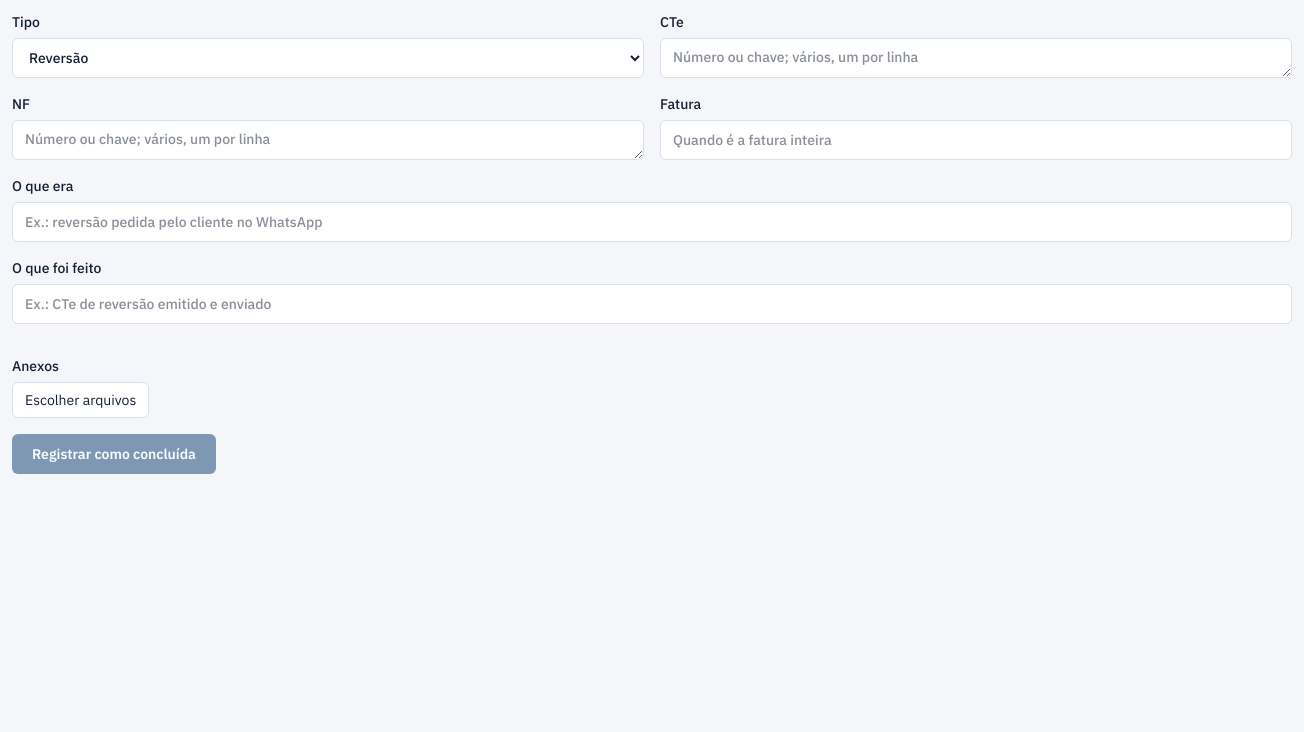
Scenario: FormularioDeRegistro › duplicidade: mostra e deixa registrar mesmo assim
In the text box labelled "CTe": (976, 58) [660,38,1292,78], type "50001"
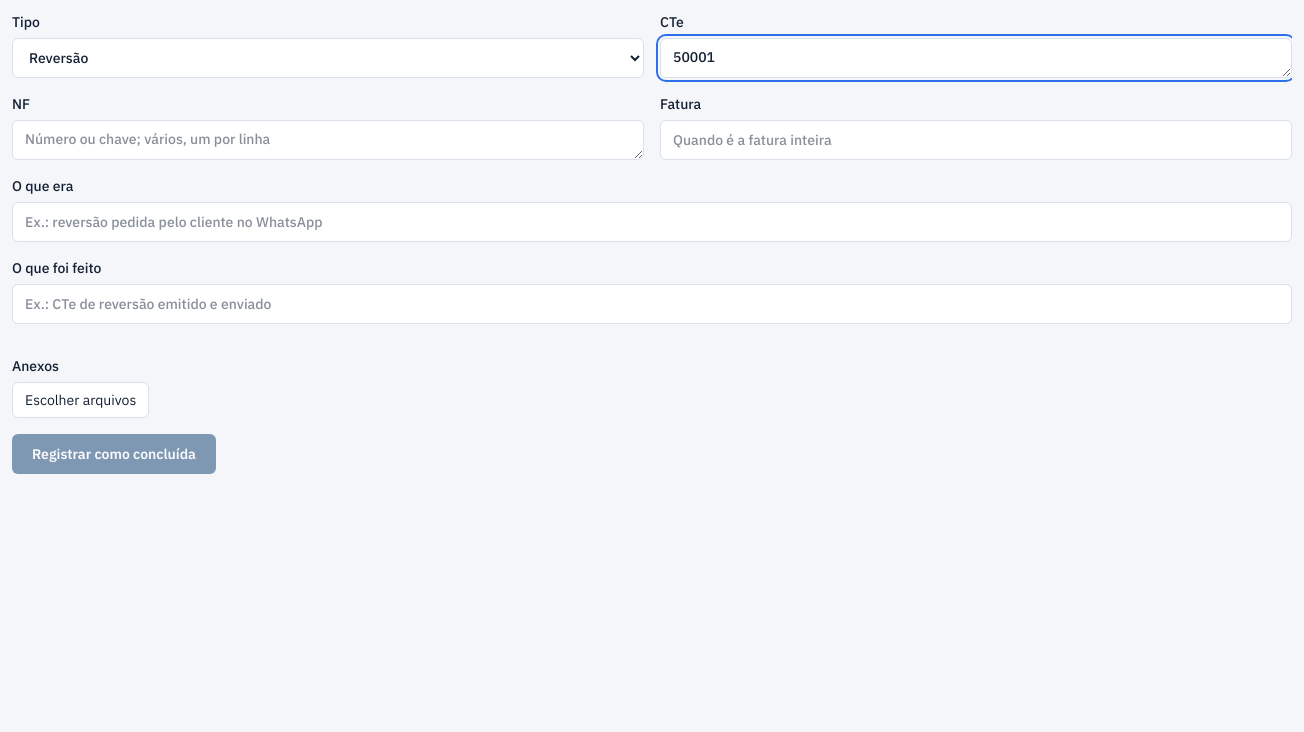
In the field labelled "O que era": (652, 222) [12,202,1292,242], type "Reversão"
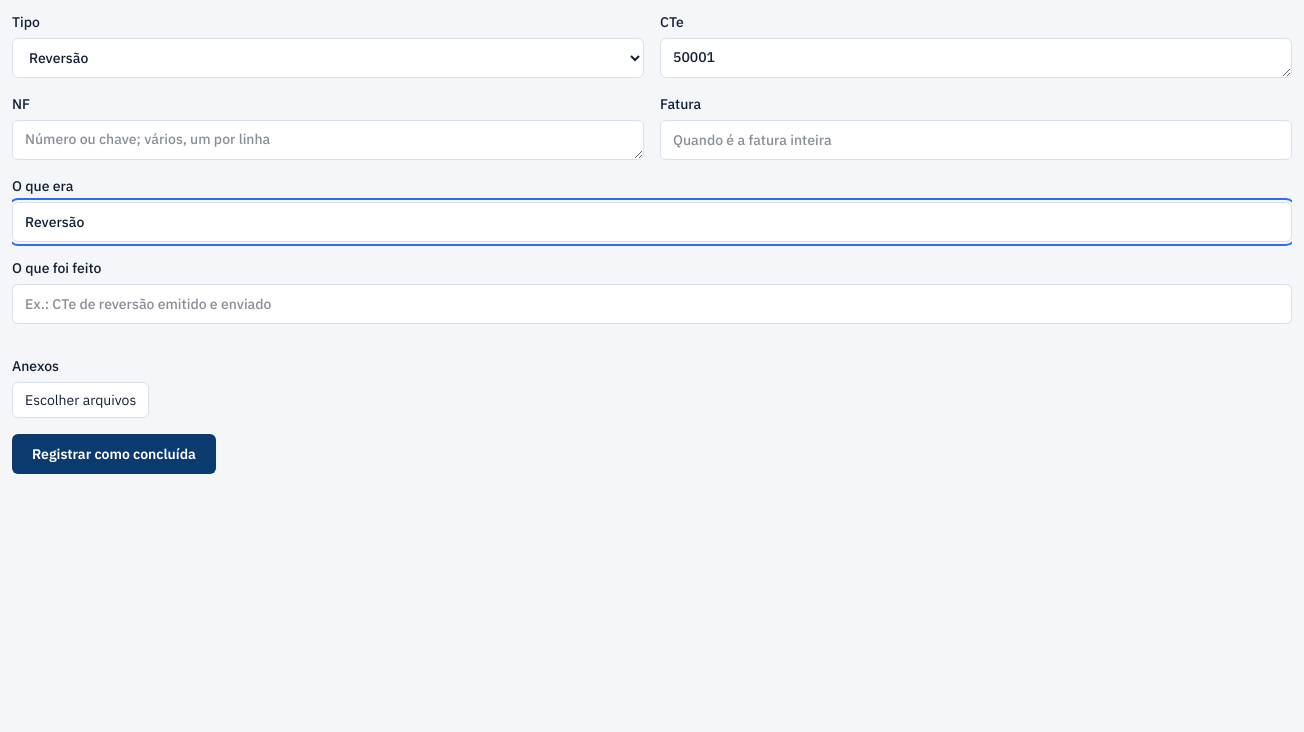
In the field labelled "O que foi feito": (652, 304) [12,284,1292,324], type "Emitida"
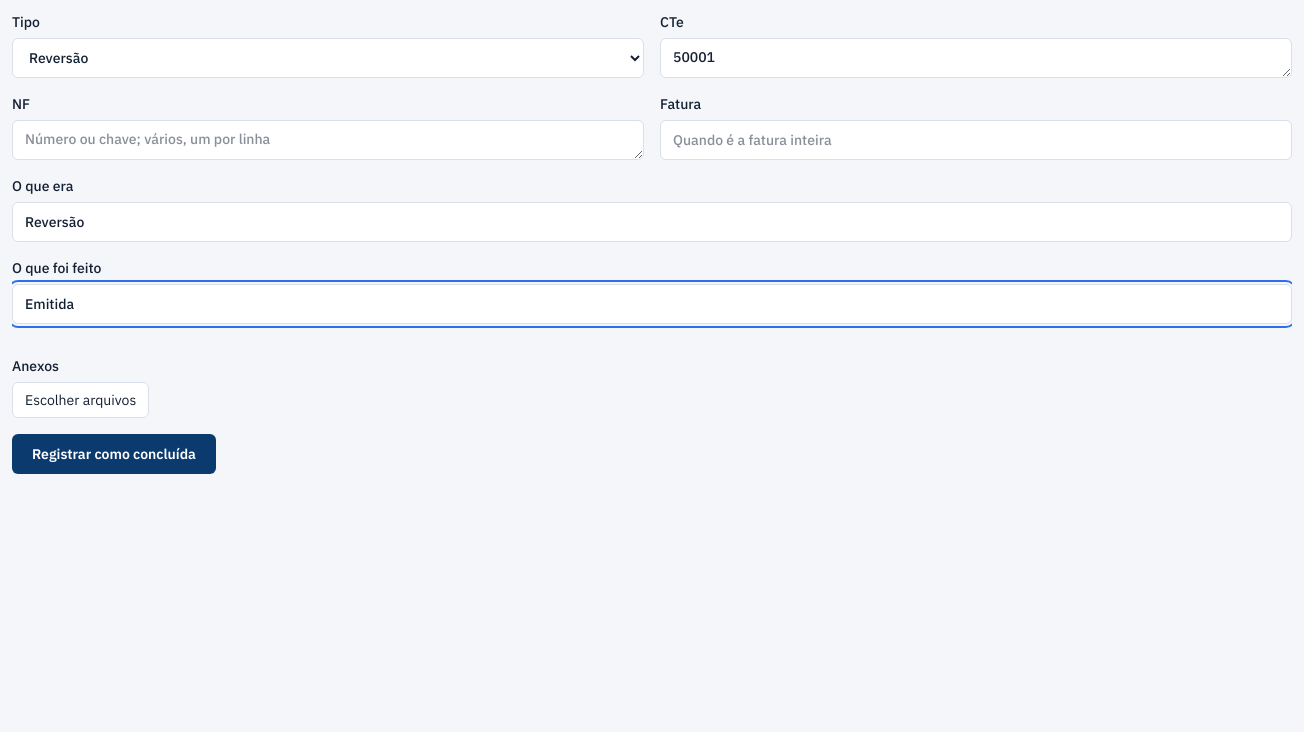
Click the button "Registrar como concluída": (114, 454) [12,434,216,474]
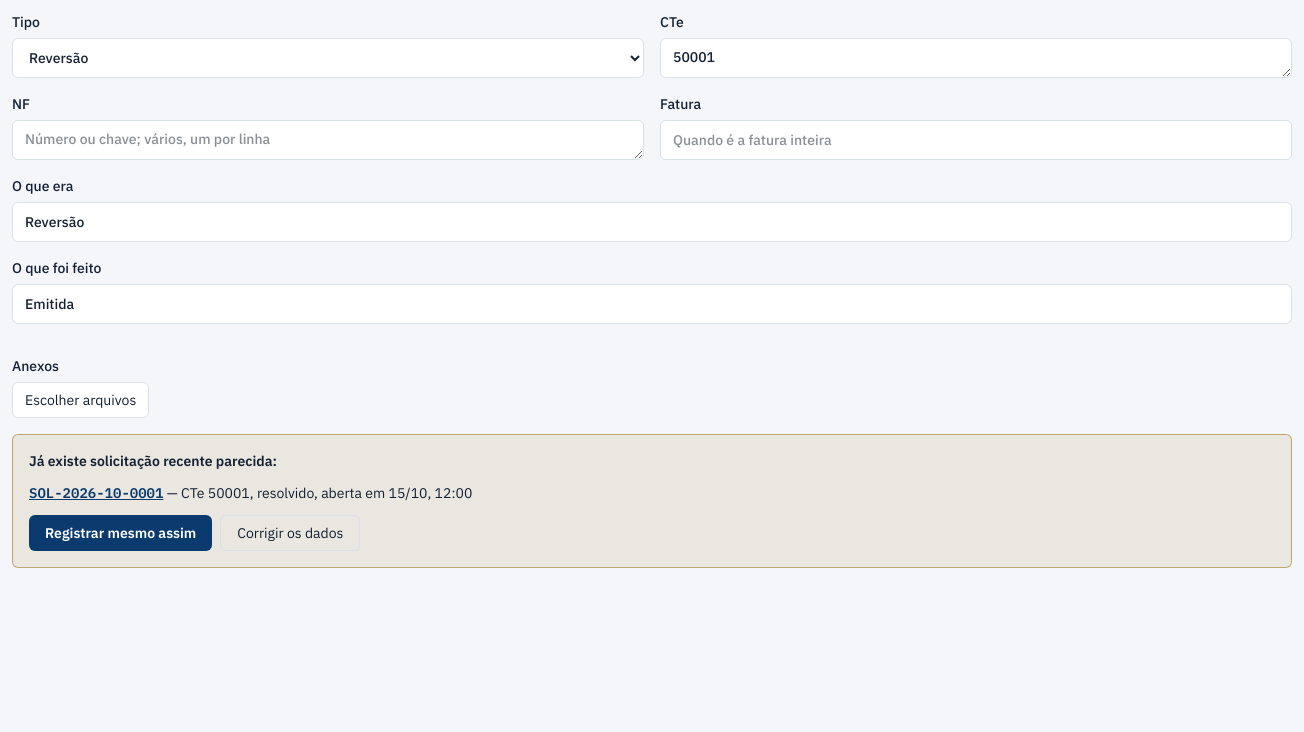
Now the link "SOL-2026-10-0001" is shown, box [29,484,163,502]
Click the button "Registrar mesmo assim": (121, 533) [29,515,212,551]
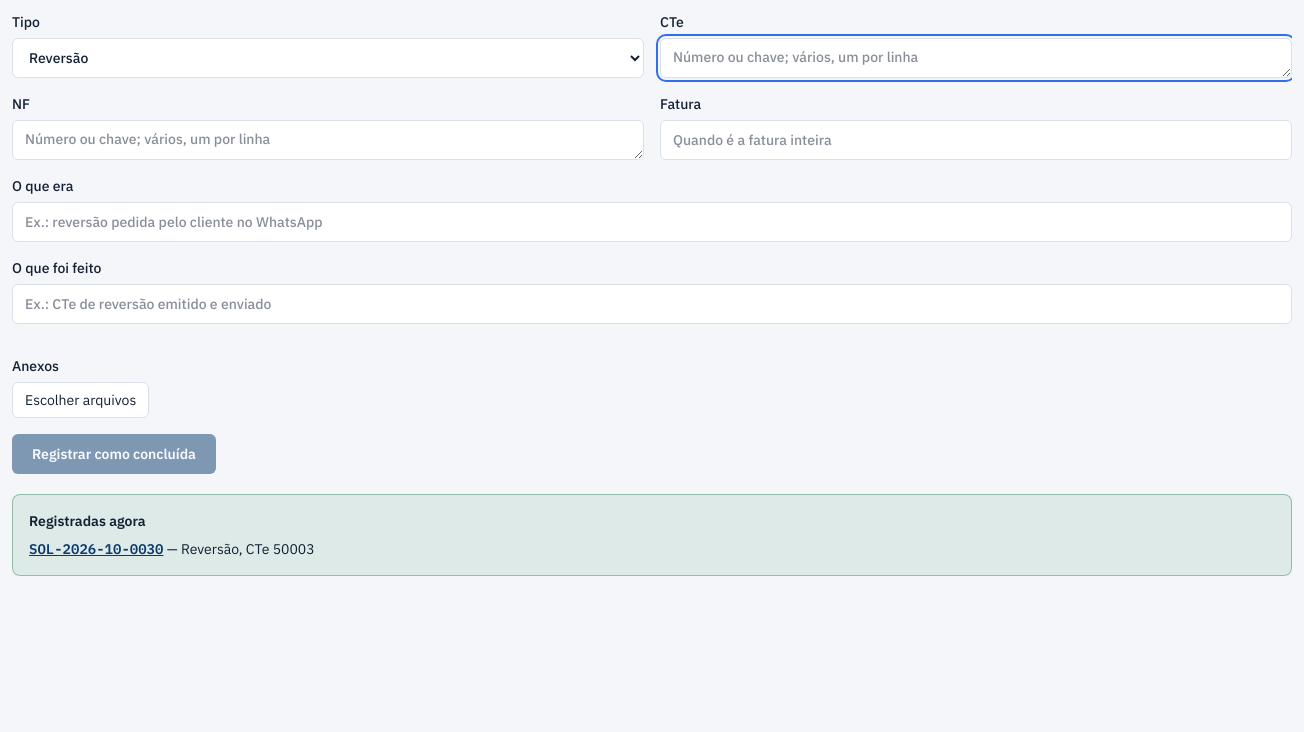
Now the link "SOL-2026-10-0030" is shown, box [29,540,163,558]
